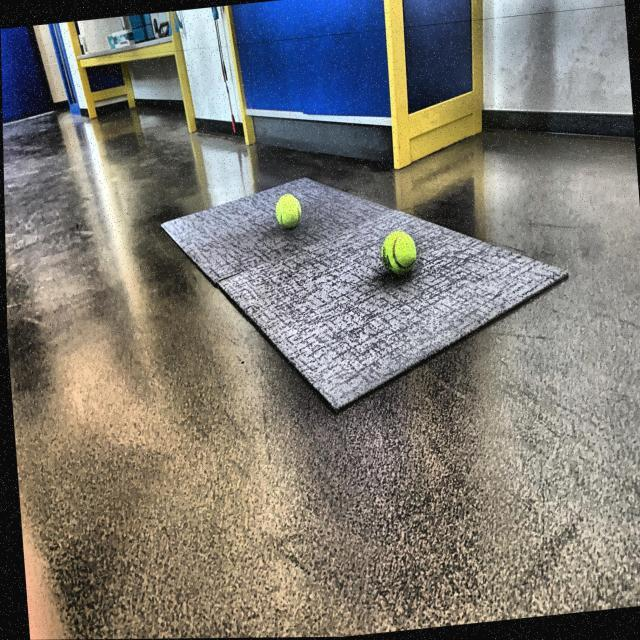tennis-ball: (376, 228, 419, 282), (270, 190, 306, 236)
